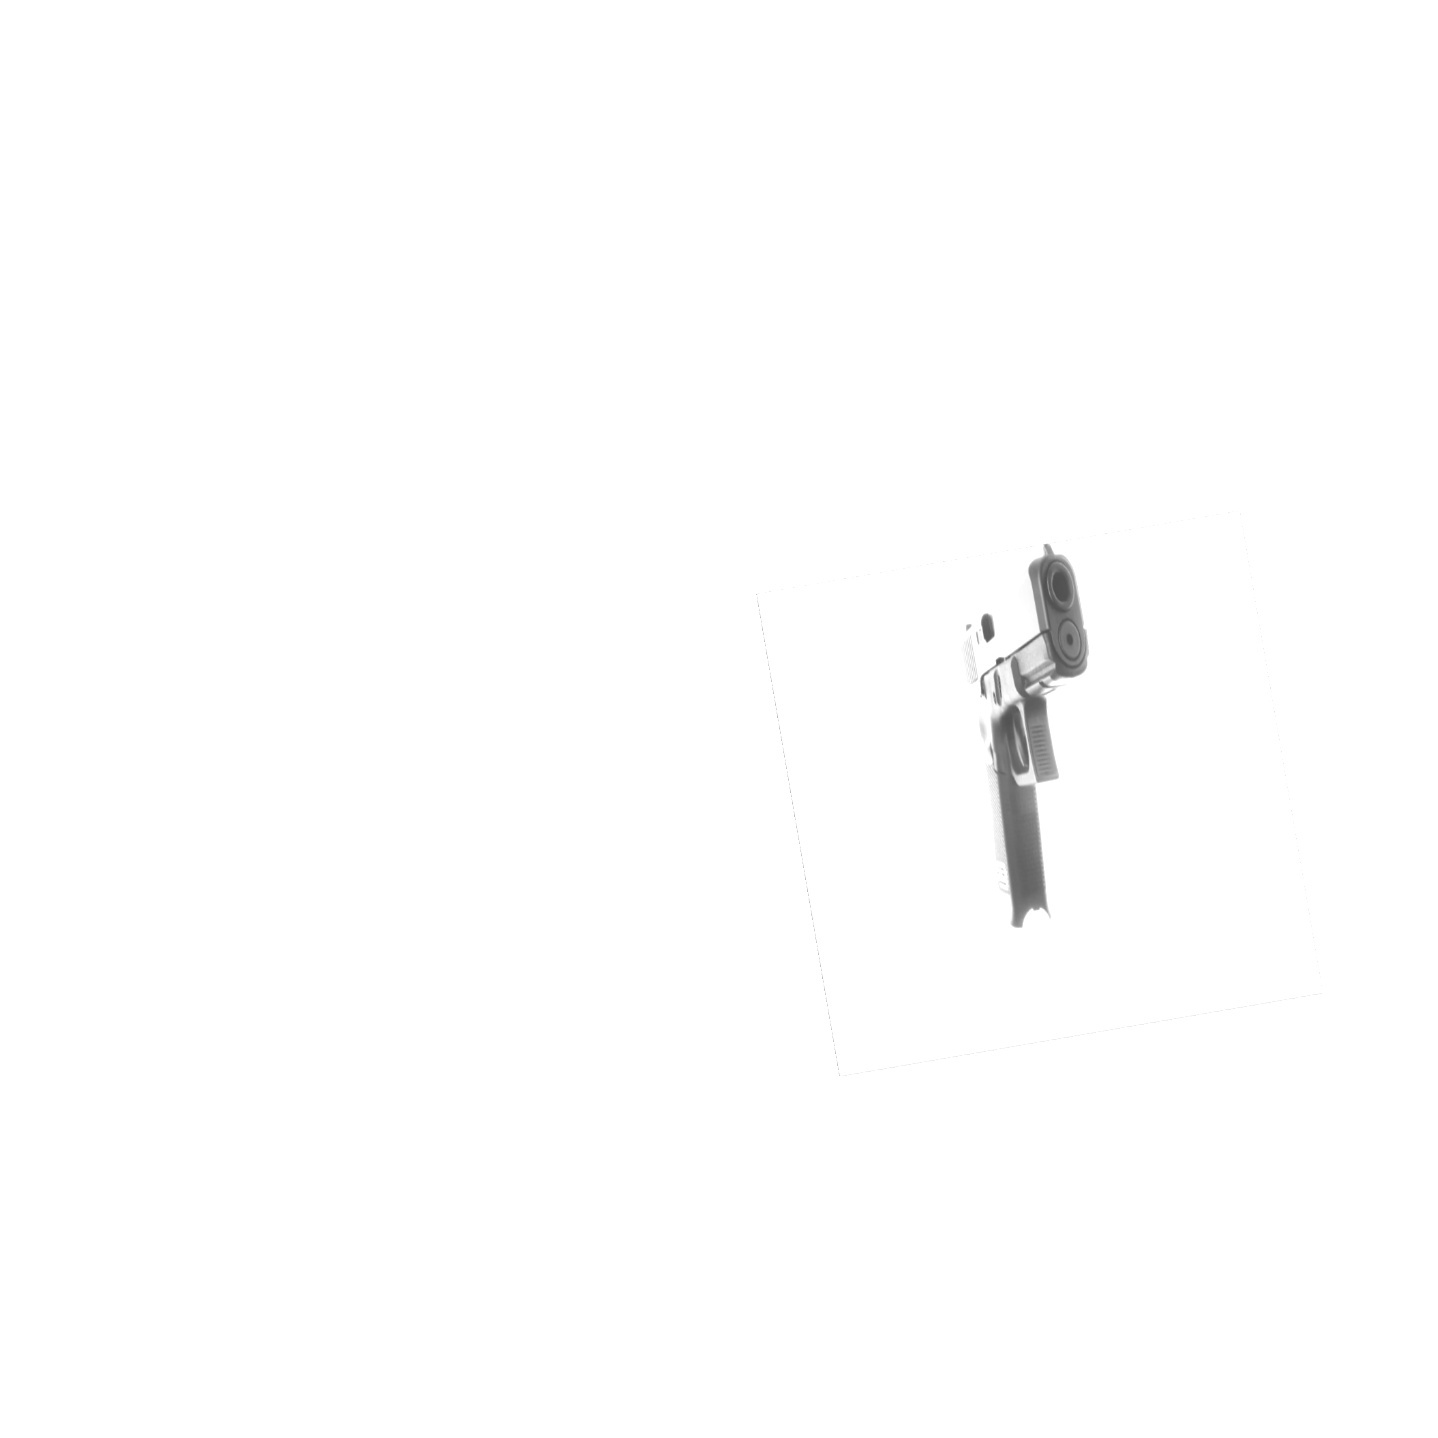gun: (957, 543, 1088, 928)
